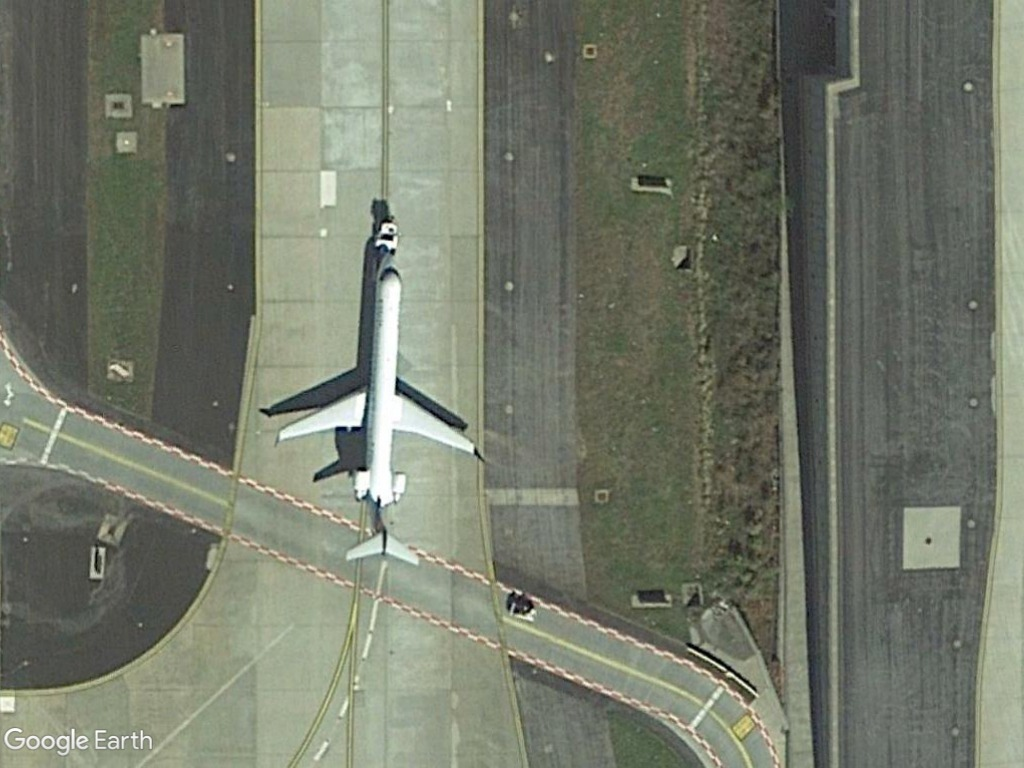chartered: (266, 247, 492, 577)
